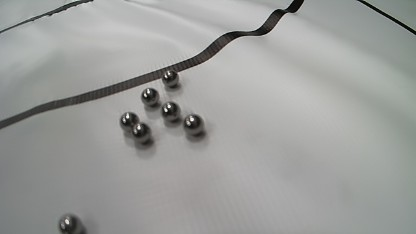ironball: (58, 213, 85, 234), (183, 114, 204, 135), (131, 122, 151, 143), (161, 101, 181, 121), (119, 112, 139, 131), (140, 87, 159, 106), (162, 70, 179, 87)
